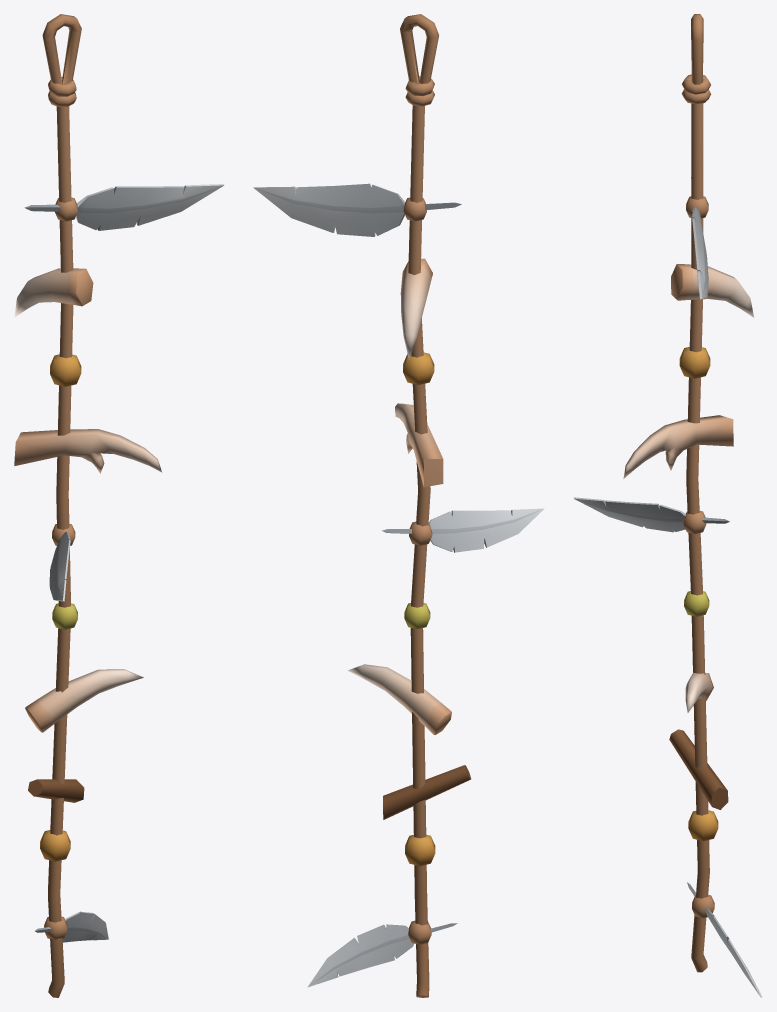
The model's file is WitchsLadder.fbx.
3 renders of one model, left to right at view 1: azimuth 30°, elevation 25°; view 2: azimuth 150°, elevation 25°; view 3: azimuth 270°, elevation 25°, orthographic. The views are drawn at different scales.
Visible parts, largest first — view 1: WitchsLadder; view 2: WitchsLadder; view 3: WitchsLadder.
Boxes of the visible parts, left/top/right/bottom form: WitchsLadder: left=14, top=14, right=224, bottom=997; WitchsLadder: left=253, top=14, right=544, bottom=997; WitchsLadder: left=573, top=14, right=761, bottom=997.
Size of the model in its own units: 17.34 by 71.88 by 12.84.
